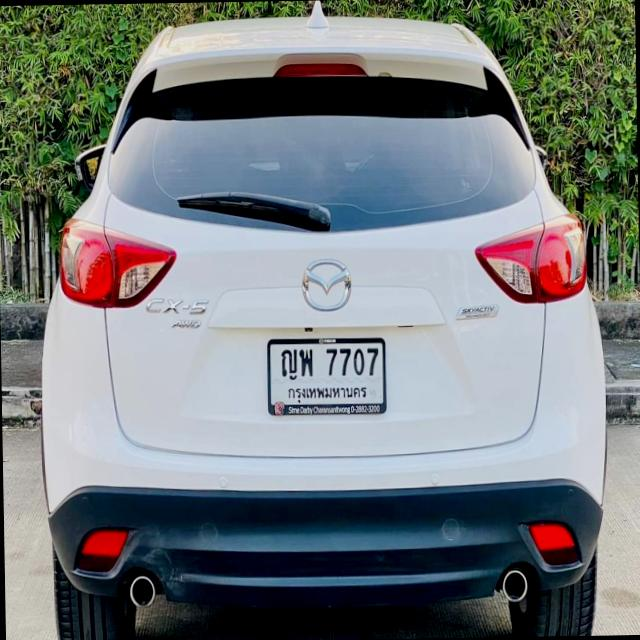license_plate: (263, 332, 390, 421)
